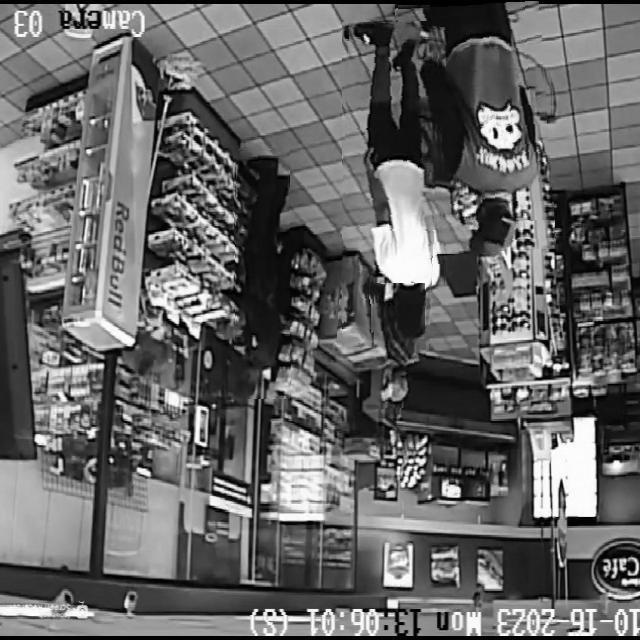Normal: (398, 0, 554, 254), (342, 21, 447, 349), (234, 149, 290, 399), (372, 283, 426, 408)
